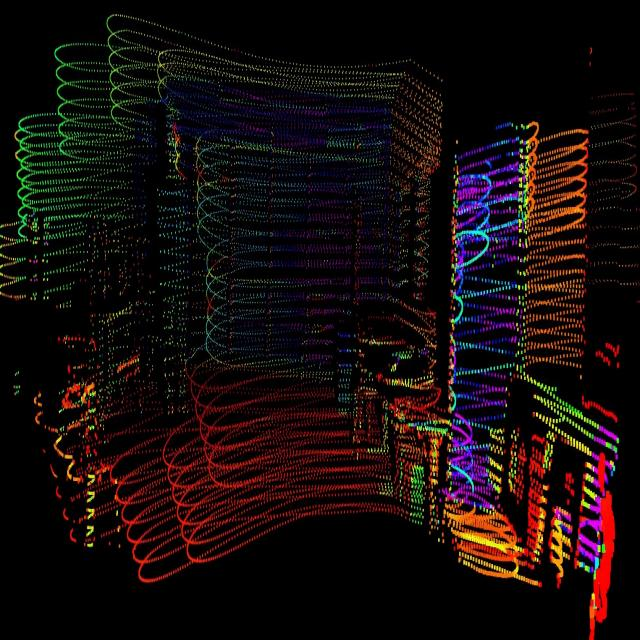human: (154, 87, 197, 422)
